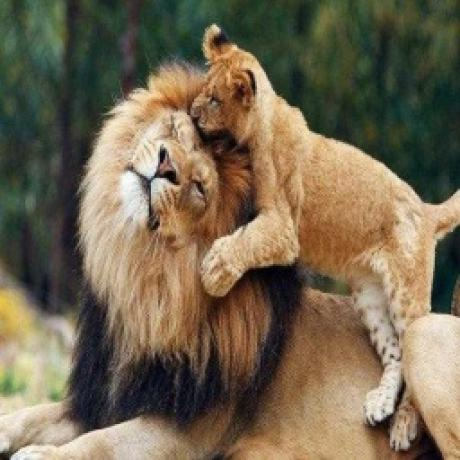Lion: (0, 57, 460, 460), (187, 23, 460, 447)
